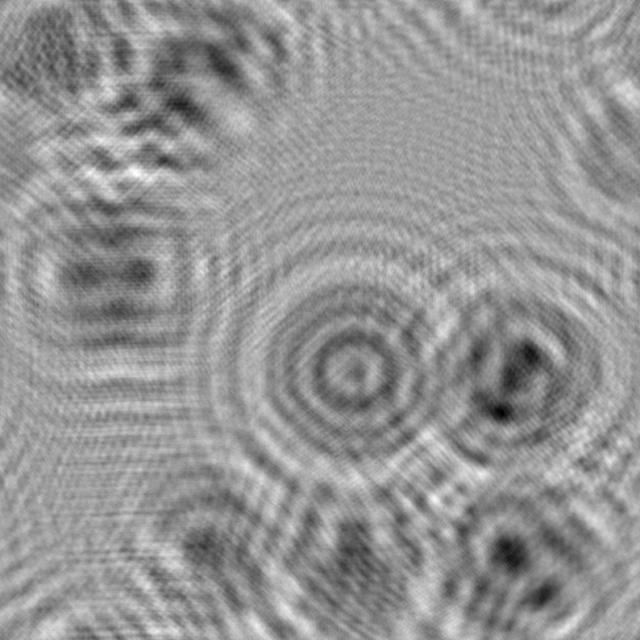B: (387, 234, 640, 499)
H: (0, 164, 233, 381)
J: (79, 434, 304, 640)
M: (91, 0, 325, 194)
O: (217, 231, 474, 499)
R: (410, 441, 640, 640)
T: (0, 0, 168, 164)
V: (251, 438, 462, 640)
